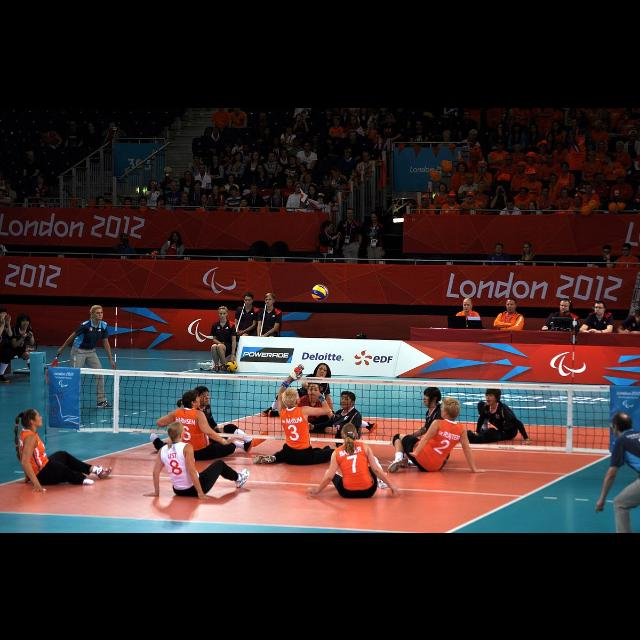head: (612, 412, 634, 436), (441, 398, 461, 418), (281, 388, 301, 408), (21, 408, 43, 426), (423, 387, 442, 407), (168, 420, 186, 440), (193, 386, 210, 406), (341, 423, 359, 441), (184, 389, 202, 406), (486, 387, 502, 405), (341, 391, 357, 409), (307, 382, 321, 398), (90, 304, 104, 320), (317, 363, 329, 377), (18, 314, 30, 328), (244, 292, 256, 306), (560, 298, 572, 312), (595, 301, 607, 315), (462, 298, 473, 312), (507, 298, 518, 312), (265, 292, 275, 306), (464, 173, 476, 184), (622, 242, 632, 255), (218, 308, 228, 320), (171, 230, 181, 242), (602, 244, 612, 256), (448, 192, 458, 204), (466, 191, 476, 203), (506, 198, 516, 210), (274, 183, 284, 195), (256, 162, 266, 174), (574, 194, 584, 206), (362, 151, 372, 163), (561, 160, 571, 172), (584, 183, 594, 195), (587, 150, 597, 162), (628, 130, 638, 142), (512, 120, 522, 132), (594, 172, 604, 184), (616, 140, 624, 154), (322, 176, 332, 187), (422, 195, 431, 207), (469, 128, 478, 140), (478, 162, 487, 174), (324, 220, 334, 230), (370, 212, 380, 222), (494, 242, 504, 252), (522, 242, 532, 252), (138, 196, 148, 206), (180, 192, 190, 202), (26, 150, 36, 160), (276, 162, 286, 172), (288, 154, 298, 164), (348, 130, 358, 140), (442, 130, 452, 140), (616, 175, 626, 185), (414, 120, 424, 130), (262, 125, 272, 135), (304, 172, 314, 182), (96, 196, 105, 207), (0, 308, 8, 320), (230, 184, 238, 196), (198, 162, 206, 174), (303, 140, 311, 152), (550, 172, 558, 184), (546, 152, 554, 164), (540, 140, 548, 152), (556, 141, 564, 153), (184, 170, 193, 180), (343, 148, 352, 158), (458, 161, 467, 171), (310, 183, 318, 194), (542, 186, 550, 197), (121, 233, 129, 243), (347, 208, 355, 218), (295, 183, 303, 193), (171, 181, 179, 191), (194, 180, 202, 190), (109, 121, 117, 131), (193, 154, 201, 164), (252, 150, 260, 160), (299, 162, 307, 172), (280, 148, 288, 158), (440, 182, 448, 192), (530, 200, 538, 210), (561, 188, 569, 198), (518, 162, 526, 172), (496, 140, 504, 150), (526, 154, 536, 162), (386, 113, 394, 123), (350, 115, 358, 125), (530, 123, 538, 133), (257, 163, 265, 173), (125, 197, 134, 205), (250, 184, 258, 193), (520, 187, 528, 196), (158, 195, 165, 205), (5, 178, 12, 188), (213, 186, 221, 194), (228, 174, 236, 182), (234, 152, 242, 160), (212, 126, 220, 134), (514, 144, 522, 152), (270, 152, 276, 162), (498, 122, 504, 132), (37, 175, 44, 183), (202, 194, 208, 202), (318, 194, 324, 202), (213, 154, 219, 162), (496, 182, 504, 188), (287, 126, 293, 134), (334, 118, 342, 124), (238, 137, 244, 145), (548, 132, 554, 140), (151, 180, 157, 187), (298, 115, 304, 122), (371, 122, 377, 128), (234, 108, 240, 112)
person: (252, 363, 346, 467), (15, 406, 115, 494), (142, 420, 252, 500), (386, 395, 489, 473), (304, 421, 404, 499), (54, 304, 120, 411), (148, 388, 238, 462), (184, 384, 270, 454), (282, 378, 380, 434), (394, 385, 456, 467), (458, 383, 534, 449), (260, 362, 338, 421), (304, 389, 364, 463), (540, 296, 582, 364), (578, 297, 616, 367), (492, 296, 526, 362), (233, 290, 261, 366), (360, 208, 390, 278), (7, 311, 38, 377), (208, 304, 238, 372), (452, 298, 484, 360), (256, 290, 284, 360), (336, 206, 362, 278), (516, 148, 544, 208), (548, 130, 574, 190), (158, 228, 188, 278), (109, 230, 139, 278), (482, 240, 514, 284), (585, 170, 611, 224), (99, 119, 129, 165), (608, 174, 634, 226), (377, 112, 403, 164), (536, 130, 562, 182), (318, 218, 340, 278), (486, 137, 512, 187), (251, 162, 275, 216), (536, 151, 564, 197), (285, 180, 311, 228), (551, 159, 577, 207), (408, 119, 432, 171), (610, 140, 634, 190), (488, 182, 514, 228), (484, 122, 510, 168), (294, 140, 318, 188), (457, 170, 481, 218), (580, 148, 604, 196), (514, 239, 540, 283), (498, 196, 524, 240), (534, 183, 558, 230), (566, 190, 592, 233), (594, 242, 618, 288), (450, 160, 474, 206), (504, 120, 528, 166), (460, 188, 482, 238), (0, 305, 14, 383), (338, 128, 364, 170), (186, 178, 208, 226), (260, 150, 284, 194), (470, 159, 494, 203), (510, 160, 532, 208), (542, 170, 566, 214), (534, 138, 554, 190), (415, 193, 437, 239), (266, 181, 288, 227), (523, 122, 545, 168), (441, 189, 462, 237), (174, 190, 198, 232), (512, 182, 536, 224), (223, 184, 245, 228), (300, 182, 322, 226), (32, 172, 52, 220), (245, 182, 267, 225), (554, 187, 576, 230), (579, 180, 601, 223), (314, 172, 336, 214), (280, 153, 302, 195), (338, 146, 359, 190), (460, 126, 482, 168), (344, 114, 366, 156), (298, 170, 320, 212), (508, 142, 530, 184), (433, 181, 453, 227), (163, 180, 184, 222), (226, 150, 247, 192), (143, 178, 163, 222), (356, 150, 378, 190), (0, 177, 18, 225), (520, 199, 544, 235), (250, 162, 274, 198), (206, 184, 226, 226), (243, 149, 264, 189), (270, 160, 290, 202), (294, 161, 314, 203), (256, 124, 276, 166), (229, 136, 251, 174), (178, 168, 196, 214), (194, 162, 212, 208), (206, 124, 226, 164), (193, 191, 214, 229), (188, 154, 208, 192), (436, 129, 456, 167), (222, 172, 240, 214), (292, 110, 310, 152), (90, 193, 112, 227), (22, 148, 44, 182), (207, 153, 226, 191), (280, 124, 298, 164), (228, 106, 248, 142), (364, 120, 382, 160), (328, 114, 346, 150), (313, 192, 332, 226), (276, 148, 292, 186), (154, 193, 172, 225), (119, 196, 137, 226), (136, 194, 152, 226)
